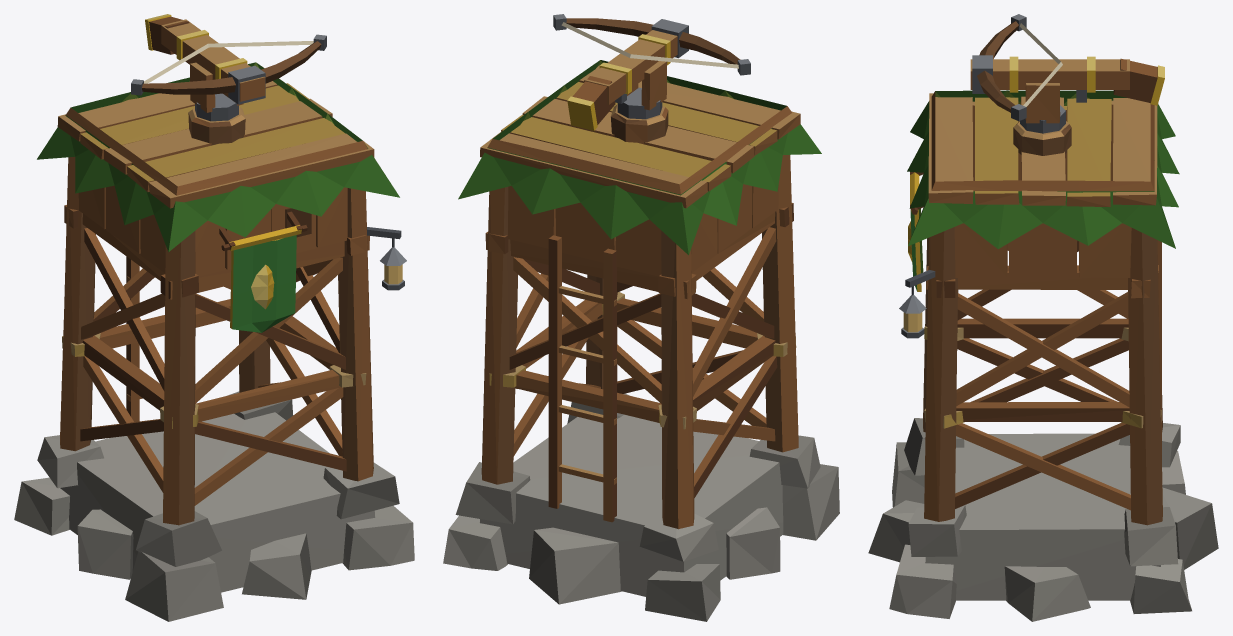
The model's file is acorn_tower_3.glb.
The picture shows the model from 3 angles, left to right: view 1: azimuth 30°, elevation 25°; view 2: azimuth 150°, elevation 25°; view 3: azimuth 270°, elevation 25°; orthographic projection.
Parts seen in each view (by area): view 1: acorn_tower_3, turret, banner, bow_string; view 2: acorn_tower_3, turret, bow_string; view 3: acorn_tower_3, turret, banner.
Part boxes in pixels (left/top/right/bottom): acorn_tower_3: left=14, top=62, right=414, bottom=621; turret: left=131, top=14, right=326, bottom=121; banner: left=229, top=225, right=301, bottom=332; bow_string: left=144, top=41, right=313, bottom=83; acorn_tower_3: left=443, top=60, right=839, bottom=621; turret: left=553, top=14, right=750, bottom=130; bow_string: left=561, top=22, right=738, bottom=68; acorn_tower_3: left=868, top=90, right=1218, bottom=621; turret: left=970, top=14, right=1164, bottom=133; banner: left=908, top=172, right=923, bottom=291.
Bounding box in the file's own units: 1.76 × 2.91 × 1.88.
